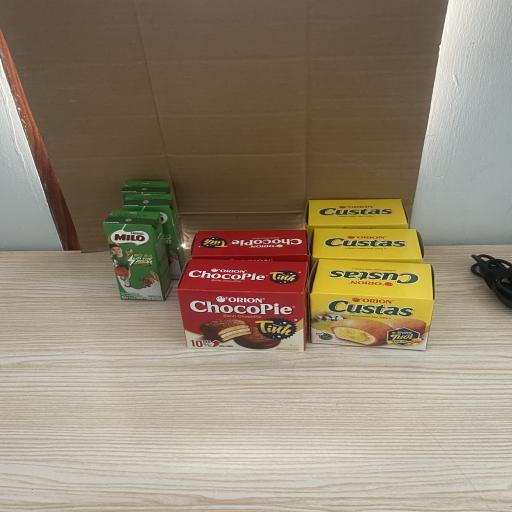chocopie: (177, 258, 310, 352), (190, 229, 310, 263)
custas: (308, 258, 436, 350), (309, 228, 425, 266), (304, 198, 409, 230)
milo: (102, 209, 173, 301), (121, 192, 184, 279), (120, 180, 175, 207)
